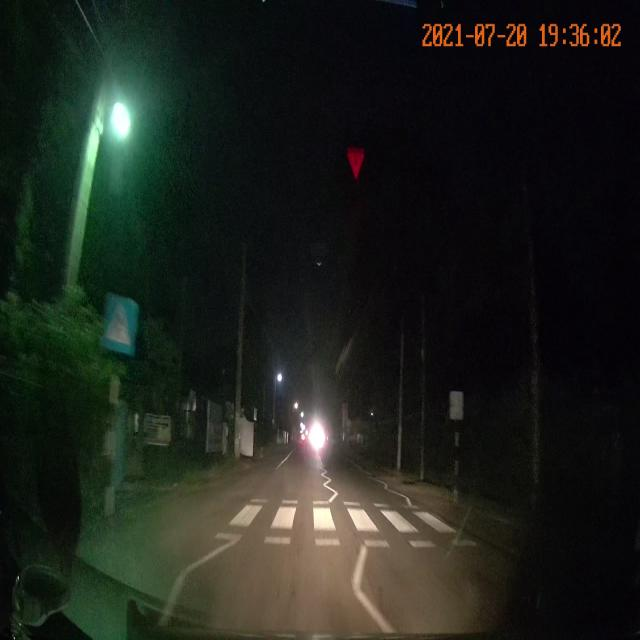Crosswalk: (204, 496, 493, 552)
